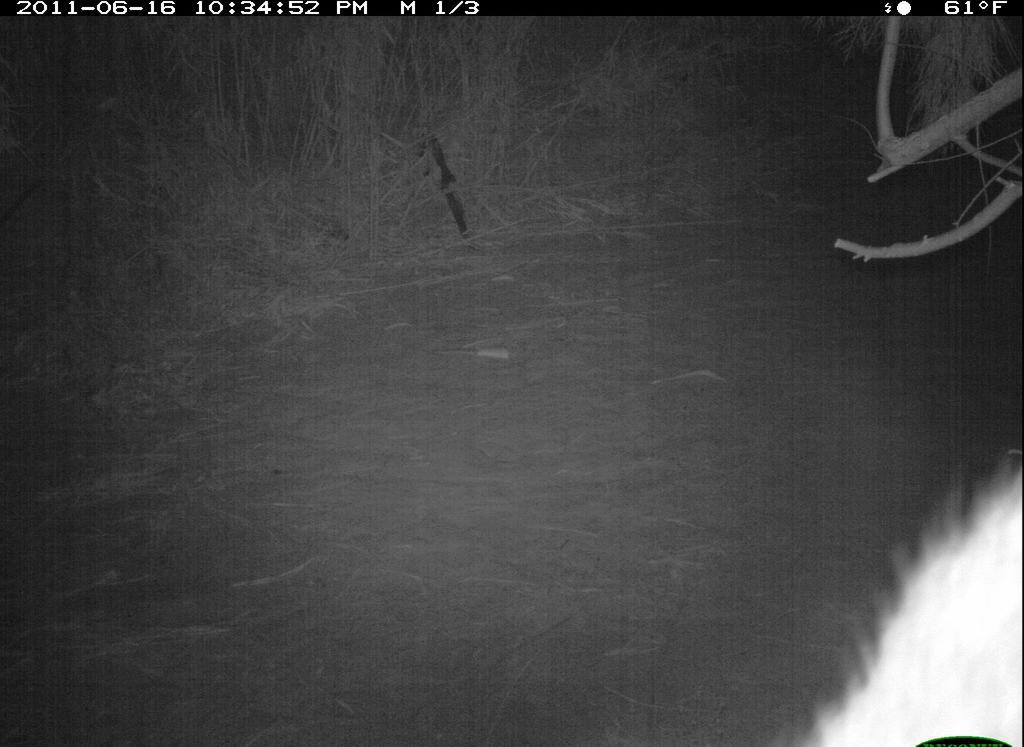raccoon: (761, 445, 1021, 747)
